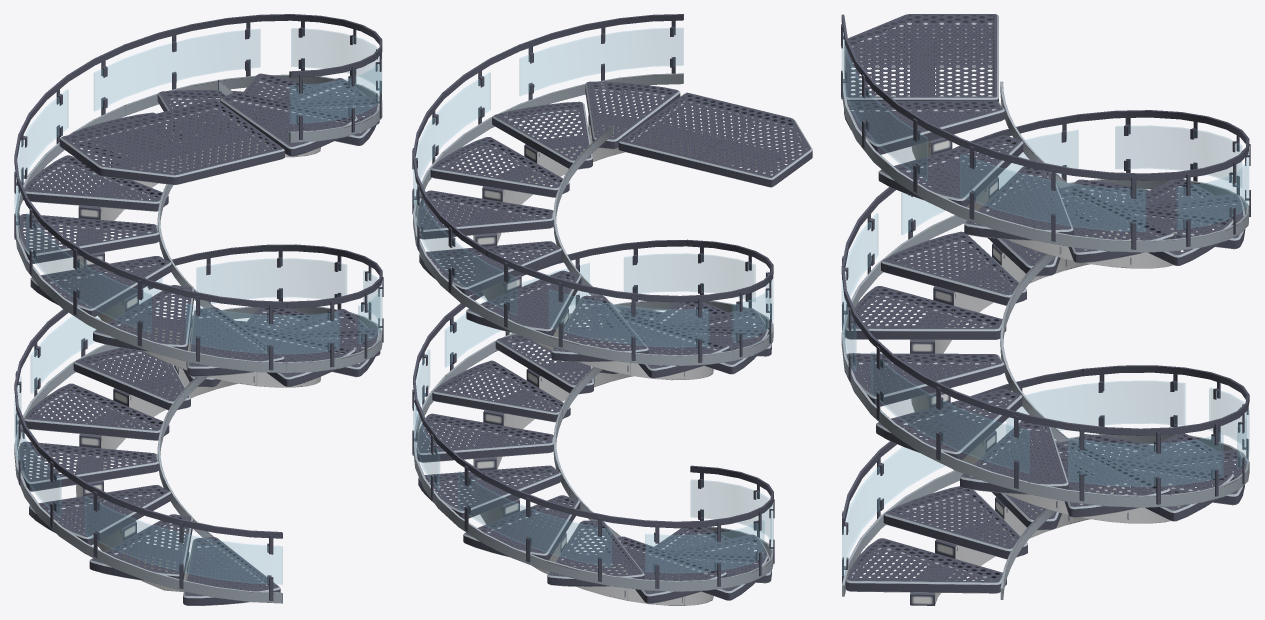
Rendered from Interior_Stair_Circular_02.FBX.
3 renders of one model, left to right at view 1: azimuth 30°, elevation 25°; view 2: azimuth 150°, elevation 25°; view 3: azimuth 270°, elevation 25°, orthographic. The views are drawn at different scales.
Visible parts, largest first — view 1: Interior_Stair_Circular_02; view 2: Interior_Stair_Circular_02; view 3: Interior_Stair_Circular_02.
Boxes of the visible parts, x1=… form: Interior_Stair_Circular_02: x1=14, y1=14, x2=383, y2=605; Interior_Stair_Circular_02: x1=412, y1=14, x2=812, y2=605; Interior_Stair_Circular_02: x1=841, y1=14, x2=1250, y2=605.
Size of what is drawn, in the model's own units: 5.15 by 8.21 by 5.13.
3 materials, 2 textured.
